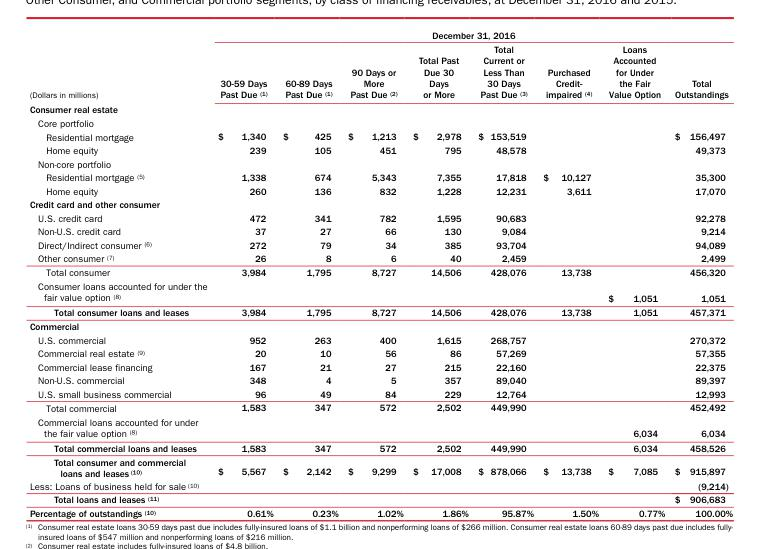table: (28, 28, 732, 518)
table column: (28, 28, 211, 518), (602, 28, 669, 518), (211, 28, 277, 518), (277, 28, 342, 518), (342, 28, 407, 518), (407, 28, 472, 518), (472, 28, 537, 518), (537, 28, 602, 518), (669, 28, 732, 518)
table column header: (28, 28, 732, 101)
table projected row header: (28, 101, 732, 115), (28, 115, 732, 129), (28, 156, 732, 170), (28, 197, 732, 210), (28, 319, 732, 332)
table row: (28, 41, 732, 101), (28, 278, 732, 304), (28, 414, 732, 440), (28, 454, 732, 479), (28, 304, 732, 319), (28, 101, 732, 115), (28, 115, 732, 129), (28, 142, 732, 156), (28, 156, 732, 170), (28, 183, 732, 197), (28, 210, 732, 224), (28, 237, 732, 251), (28, 264, 732, 278), (28, 332, 732, 346), (28, 359, 732, 373), (28, 386, 732, 400), (28, 400, 732, 414), (28, 440, 732, 454), (28, 28, 732, 41), (28, 129, 732, 142), (28, 170, 732, 183), (28, 197, 732, 210), (28, 224, 732, 237), (28, 251, 732, 264), (28, 319, 732, 332), (28, 346, 732, 359), (28, 373, 732, 386), (28, 479, 732, 492), (28, 492, 732, 505), (28, 505, 732, 518)
table spanning cell: (28, 28, 211, 101), (211, 28, 732, 41)
